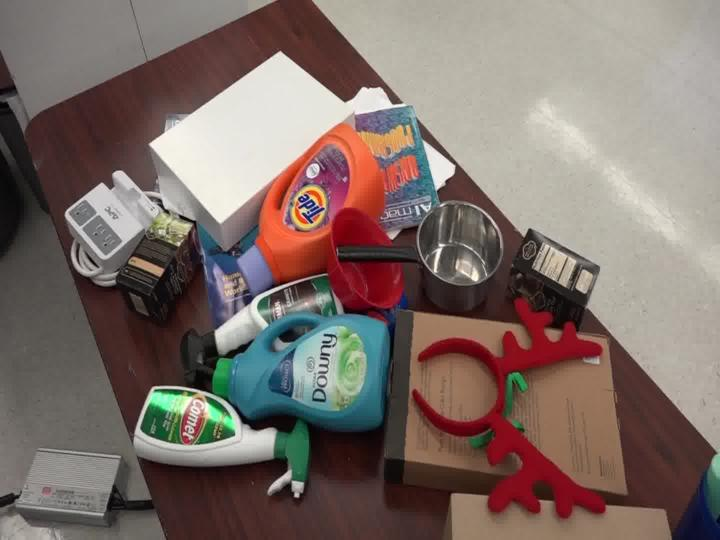tide: (223, 116, 398, 293)
